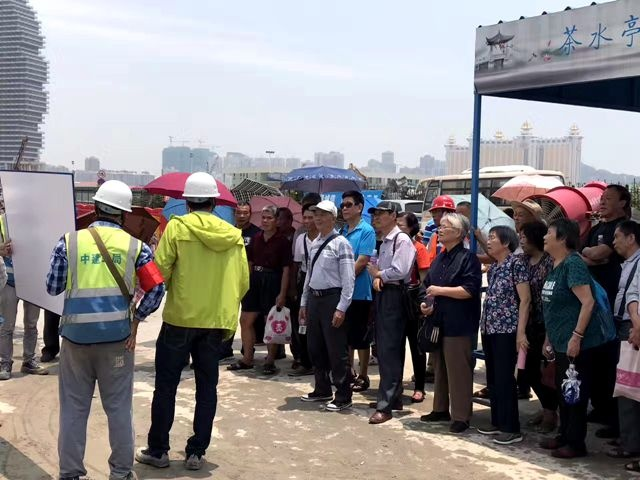none: (540, 217, 578, 257), (596, 184, 632, 217), (436, 213, 469, 247), (485, 222, 515, 259), (610, 217, 639, 255), (517, 219, 546, 252), (371, 200, 400, 230), (511, 198, 540, 228), (337, 188, 364, 220), (257, 202, 278, 233), (396, 207, 416, 238), (230, 200, 252, 226), (298, 203, 316, 232), (276, 206, 294, 231)
red: (428, 194, 453, 223)
white: (90, 179, 134, 226), (180, 171, 219, 212), (311, 199, 338, 233)
